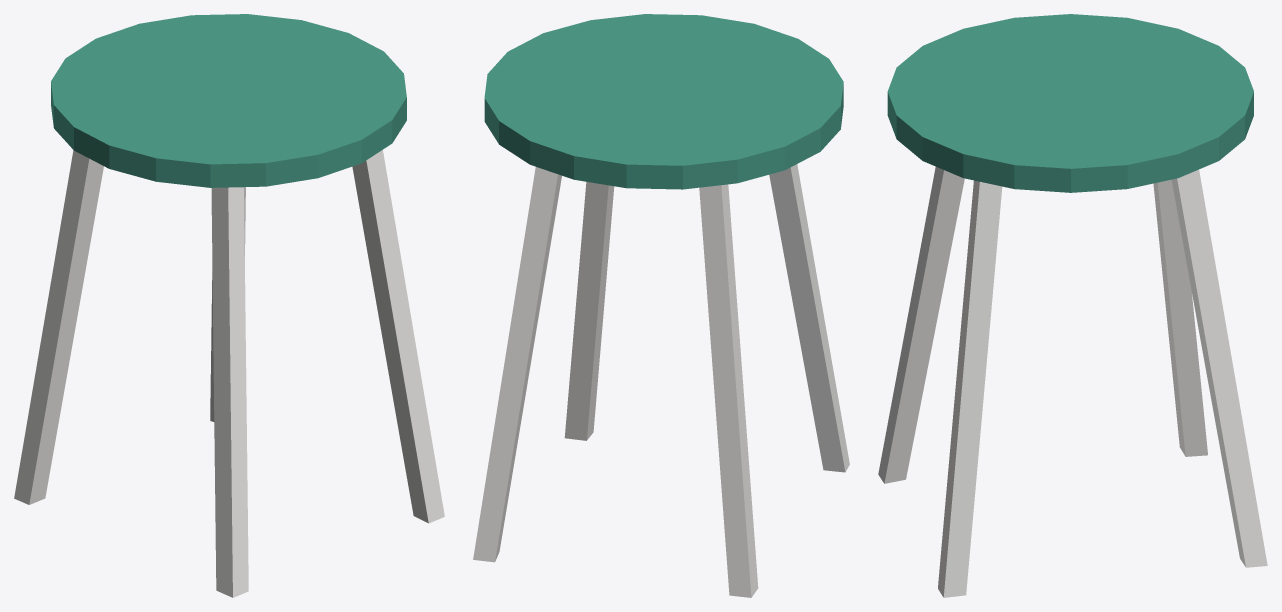
File: Stool_3.fbx
3 views of the same model, side by side, from view 1: azimuth 30°, elevation 25°; view 2: azimuth 150°, elevation 25°; view 3: azimuth 270°, elevation 25° (orthographic). The views are drawn at different scales.
Parts seen in each view (by area): view 1: Stool_3; view 2: Stool_3; view 3: Stool_3.
Part boxes in pixels (x1,y1,x2,y2): Stool_3: (14, 14, 444, 597); Stool_3: (473, 14, 849, 597); Stool_3: (878, 14, 1267, 597).
Size of the model in its own units: 70.68 by 75.13 by 91.46.
